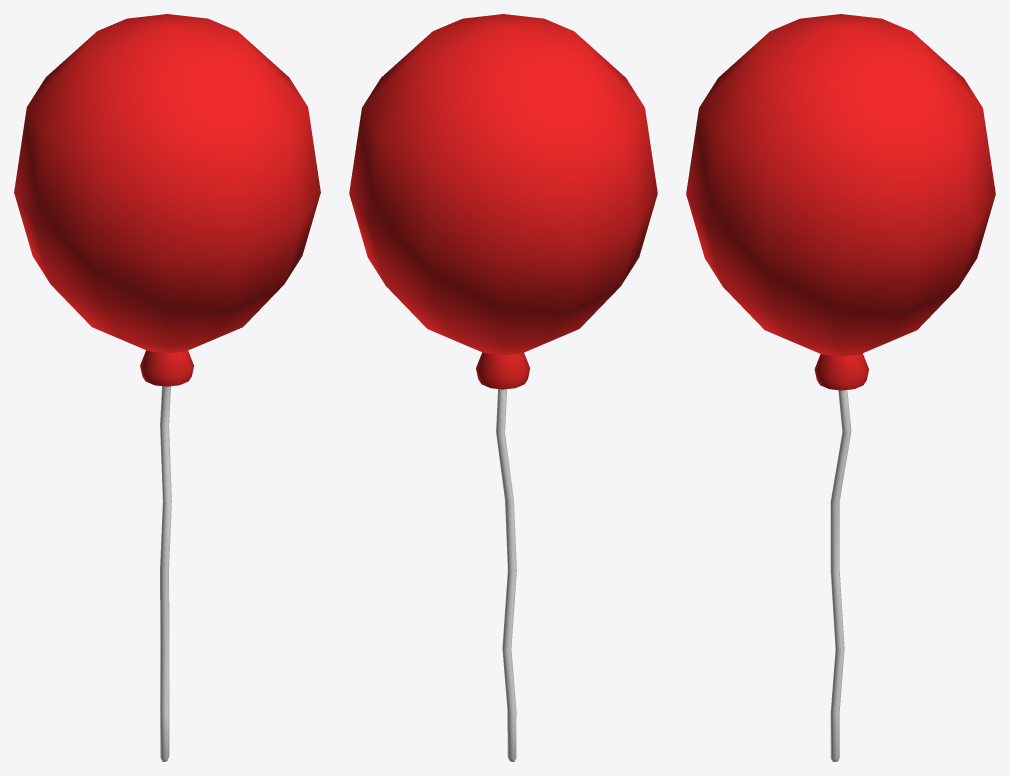
The model's file is Pungsun2-4.fbx.
The picture shows the model from 3 angles, left to right: view 1: azimuth 30°, elevation 25°; view 2: azimuth 150°, elevation 25°; view 3: azimuth 270°, elevation 25°; orthographic projection.
Parts seen in each view (by area): view 1: Pungsun2-4; view 2: Pungsun2-4; view 3: Pungsun2-4.
Boxes of the visible parts, x1,y1,x2,y2 form: Pungsun2-4: [14, 14, 320, 761]; Pungsun2-4: [349, 14, 657, 761]; Pungsun2-4: [686, 14, 995, 761].
Size of the model in its own units: 0.1547 by 0.4067 by 0.1547.
